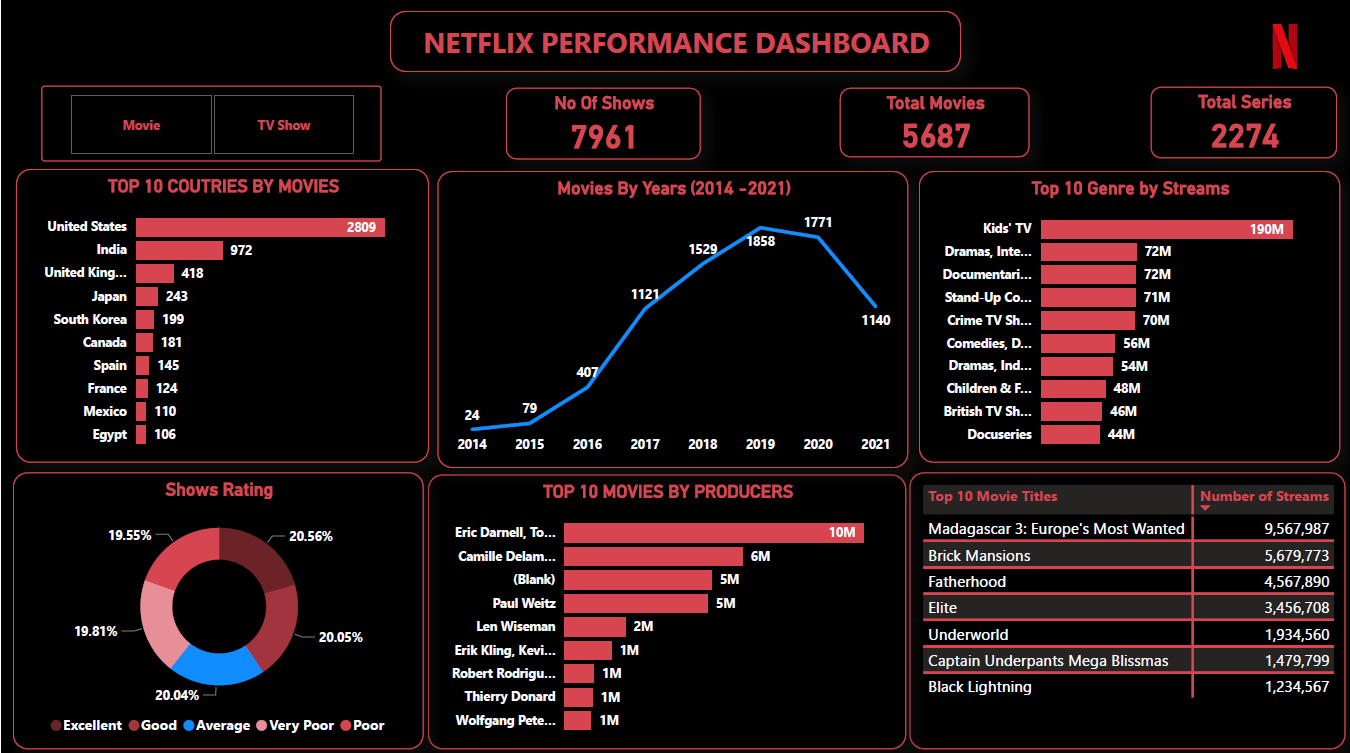

The page's visual inventory and layout, read from the dashboard file:
{"tool":"powerbi","page":{"name":"Page 1","canvas":[1280,720],"ordinal":0},"visuals":[{"type":"barChart","title":"TOP 10 COUTRIES BY MOVIES","fields":{"Category":["Netflix_1.country"],"Y":["Netflix_1.show_id"]},"box":[13.7,160.5,392.5,279.9],"z":0},{"type":"tableEx","title":"TOP 10 MOVIES BY STREAMS","fields":{"Values":["Netflix_1.title","Netflix_1.Stream"]},"box":[861.8,448.7,414.4,263.5],"z":1000},{"type":"slicer","fields":{"Values":["Netflix_1.type"]},"box":[38.4,82.3,322.5,71.4],"z":2000},{"type":"clusteredBarChart","title":"TOP 10 MOVIES BY PRODUCERS","fields":{"Y":["Netflix_1.Stream"],"Category":["Netflix_1.director"]},"box":[404.8,451.5,454.2,260.7],"z":3000},{"type":"donutChart","title":"Shows Rating ","fields":{"Category":["Netflix_1.Grade"],"Y":["Netflix_1.show_id"]},"box":[11,448.7,389.7,263.5],"z":4000},{"type":"card","title":"No Of Shows","fields":{"Values":["Netflix_1.show_id"]},"box":[478.9,83.7,185.2,68.6],"z":5000},{"type":"lineChart","title":"Movies By Years (2014 -2021)","fields":{"Category":["Netflix_1.date_added.Variation.Date Hierarchy.Year"],"Y2":["Netflix_1.show_id"]},"box":[413.8,162.5,447.5,282.5],"z":6000},{"type":"barChart","title":"Top 10 Genre by Streams","fields":{"Category":["Netflix_1.listed_in"],"Y":["Netflix_1.Stream"]},"box":[871.4,163.3,399.3,277.2],"z":7000},{"type":"image","box":[1157.9,0,122.1,90.6],"z":8000},{"type":"card","title":"Total Movies","fields":{"Values":["Netflix_1.show_id"]},"box":[795.9,83.7,179.8,65.9],"z":9000},{"type":"card","title":"Total Series","fields":{"Values":["Netflix_1.show_id"]},"box":[1090.9,83.5,177,67.2],"z":10000},{"type":"textbox","box":[368.8,11.2,542.5,57.5],"z":11000}]}

Visuals, with their boxes in screenshot pixels (x1, y1, x2, y2), scaled from the page's 1280x720 canvas onto the 1350x753 screenshot:
"TOP 10 COUTRIES BY MOVIES" barChart: {"x1": 14, "y1": 168, "x2": 428, "y2": 461}
"TOP 10 MOVIES BY STREAMS" tableEx: {"x1": 909, "y1": 469, "x2": 1346, "y2": 745}
slicer - Netflix_1.type: {"x1": 40, "y1": 86, "x2": 381, "y2": 161}
"TOP 10 MOVIES BY PRODUCERS" clusteredBarChart: {"x1": 427, "y1": 472, "x2": 906, "y2": 745}
"Shows Rating " donutChart: {"x1": 12, "y1": 469, "x2": 423, "y2": 745}
"No Of Shows" card: {"x1": 505, "y1": 88, "x2": 700, "y2": 159}
"Movies By Years (2014 -2021)" lineChart: {"x1": 436, "y1": 170, "x2": 908, "y2": 465}
"Top 10 Genre by Streams" barChart: {"x1": 919, "y1": 171, "x2": 1340, "y2": 461}
image: {"x1": 1221, "y1": 0, "x2": 1349, "y2": 95}
"Total Movies" card: {"x1": 839, "y1": 88, "x2": 1029, "y2": 156}
"Total Series" card: {"x1": 1151, "y1": 87, "x2": 1337, "y2": 158}
textbox: {"x1": 389, "y1": 12, "x2": 961, "y2": 72}
